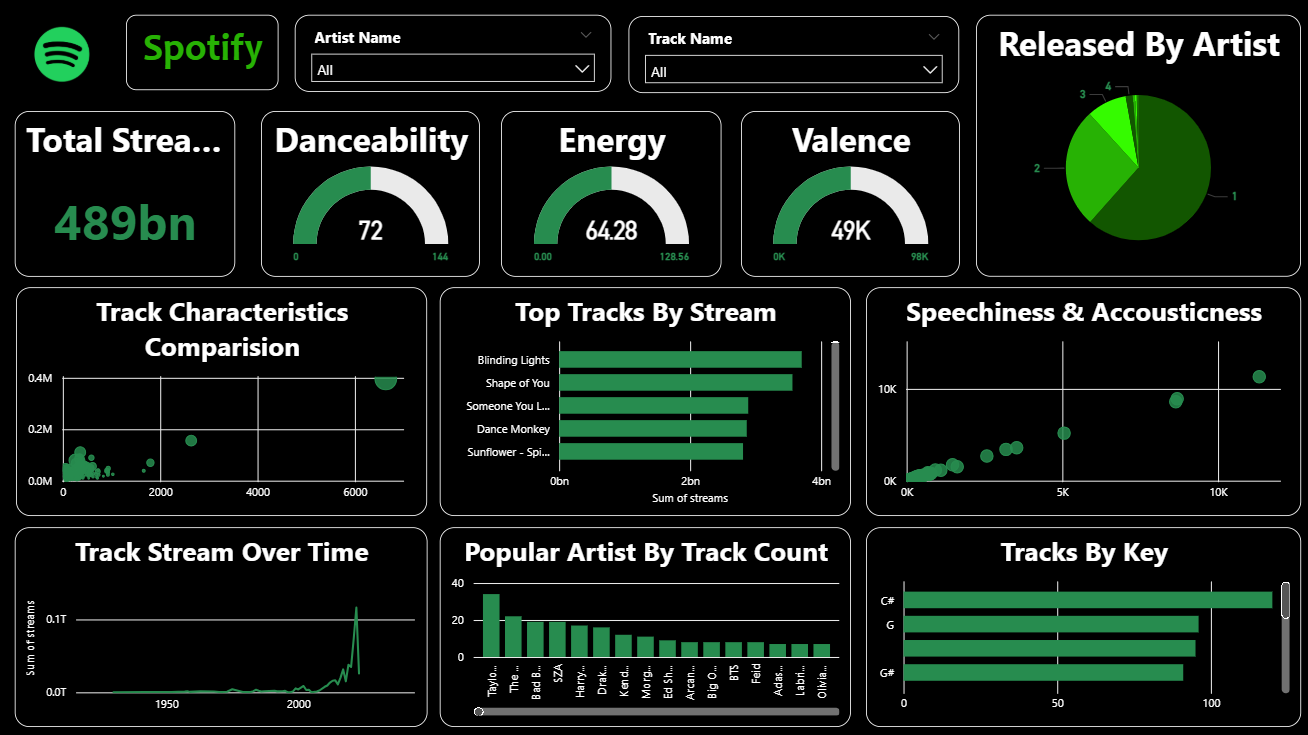

The dashboard page shown, as its layout file describes it:
{"tool":"powerbi","page":{"name":"Page 1","canvas":[1280,720],"ordinal":0},"visuals":[{"type":"image","box":[0,5.5,137.2,109.8],"z":0},{"type":"textbox","box":[130.4,23.3,146.8,73],"z":1000},{"type":"cardVisual","title":"Total Streams","fields":{"Data":["Sum(spotify-2023.streams)"]},"box":[22.8,115.6,212.9,159.7],"z":2000},{"type":"gauge","title":"Danceability","fields":{"Y":["Count(spotify-2023.danceability_%)"]},"box":[260,115.6,211.4,159.7],"z":2001},{"type":"gauge","title":"Energy","fields":{"Y":["Avg(spotify-2023.energy_%)"]},"box":[492.7,115.6,212.9,159.7],"z":2002},{"type":"gauge","title":"Valence","fields":{"Y":["Sum(spotify-2023.valence_%)"]},"box":[723.8,115.6,211.4,159.7],"z":2003},{"type":"scatterChart","title":"Track Characteristics Comparision","fields":{"X":["Sum(spotify-2023.danceability_%)"],"Category":["spotify-2023.in_apple_charts"],"Y":["Sum(spotify-2023.in_spotify_playlists)"],"Size":["Sum(spotify-2023.in_deezer_playlists)"]},"box":[24.3,285.9,396.9,220.5],"z":2004},{"type":"barChart","title":"Top Tracks By Stream","fields":{"Category":["spotify-2023.track_name"],"Y":["Sum(spotify-2023.streams)"]},"box":[433.4,285.9,396.9,220.5],"z":2005},{"type":"scatterChart","title":"Speechiness & Accousticness","fields":{"Category":["spotify-2023.speechiness_%","spotify-2023.acousticness_%"],"X":["Sum(spotify-2023.energy_%)"],"Y":["Sum(spotify-2023.danceability_%)"]},"box":[843.9,285.9,419.7,220.5],"z":2006},{"type":"lineChart","title":"Track Stream Over Time","fields":{"Category":["spotify-2023.released_year"],"Y":["Sum(spotify-2023.streams)"]},"box":[22.8,517,398.4,193.1],"z":2007},{"type":"columnChart","title":"Popular Artist By Track Count","fields":{"Category":["spotify-2023.artist(s)_name"],"Y":["Sum(spotify-2023.artist_count)"]},"box":[433,517,397,193],"z":2008},{"type":"barChart","title":"Tracks By Key","fields":{"Category":["spotify-2023.key"],"Y":["CountNonNull(spotify-2023.track_name)"]},"box":[844,517,420,193],"z":2009},{"type":"pieChart","title":"Released By Artist","fields":{"Y":["Sum(spotify-2023.released_year)"],"Series":["spotify-2023.artist_count"]},"box":[950.3,22.8,313.2,252.4],"z":2010},{"type":"slicer","fields":{"Values":["spotify-2023.artist(s)_name"]},"box":[293.5,22.8,305.6,74.5],"z":2011},{"type":"slicer","fields":{"Values":["spotify-2023.track_name"]},"box":[615.8,24.3,319.3,74.5],"z":2012}]}

Visuals, with their boxes in screenshot pixels (x1, y1, x2, y2), scaled from the page's 1280x720 canvas onto the 1308x735 screenshot:
image: locate(0, 6, 140, 118)
textbox: locate(133, 24, 283, 98)
"Total Streams" cardVisual: locate(23, 118, 241, 281)
"Danceability" gauge: locate(266, 118, 482, 281)
"Energy" gauge: locate(503, 118, 721, 281)
"Valence" gauge: locate(740, 118, 956, 281)
"Track Characteristics Comparision" scatterChart: locate(25, 292, 430, 517)
"Top Tracks By Stream" barChart: locate(443, 292, 848, 517)
"Speechiness & Accousticness" scatterChart: locate(862, 292, 1291, 517)
"Track Stream Over Time" lineChart: locate(23, 528, 430, 725)
"Popular Artist By Track Count" columnChart: locate(442, 528, 848, 725)
"Tracks By Key" barChart: locate(862, 528, 1292, 725)
"Released By Artist" pieChart: locate(971, 23, 1291, 281)
slicer - spotify-2023.artist(s)_name: locate(300, 23, 612, 99)
slicer - spotify-2023.track_name: locate(629, 25, 956, 101)
